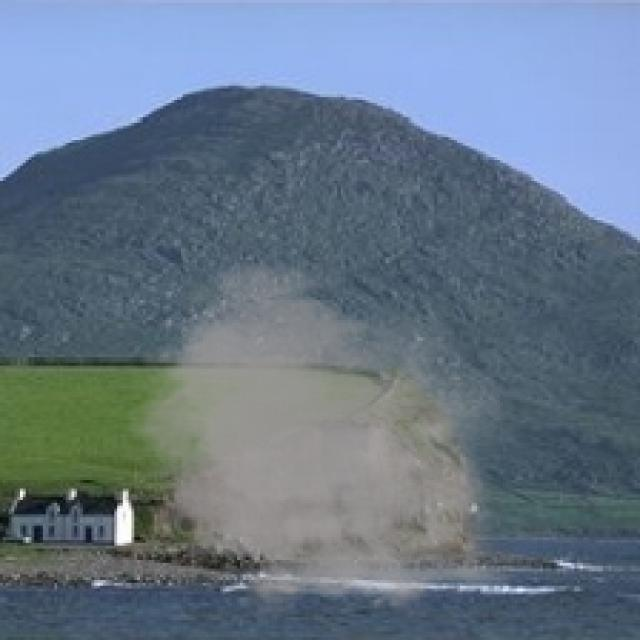Smoke: (114, 251, 526, 626)
